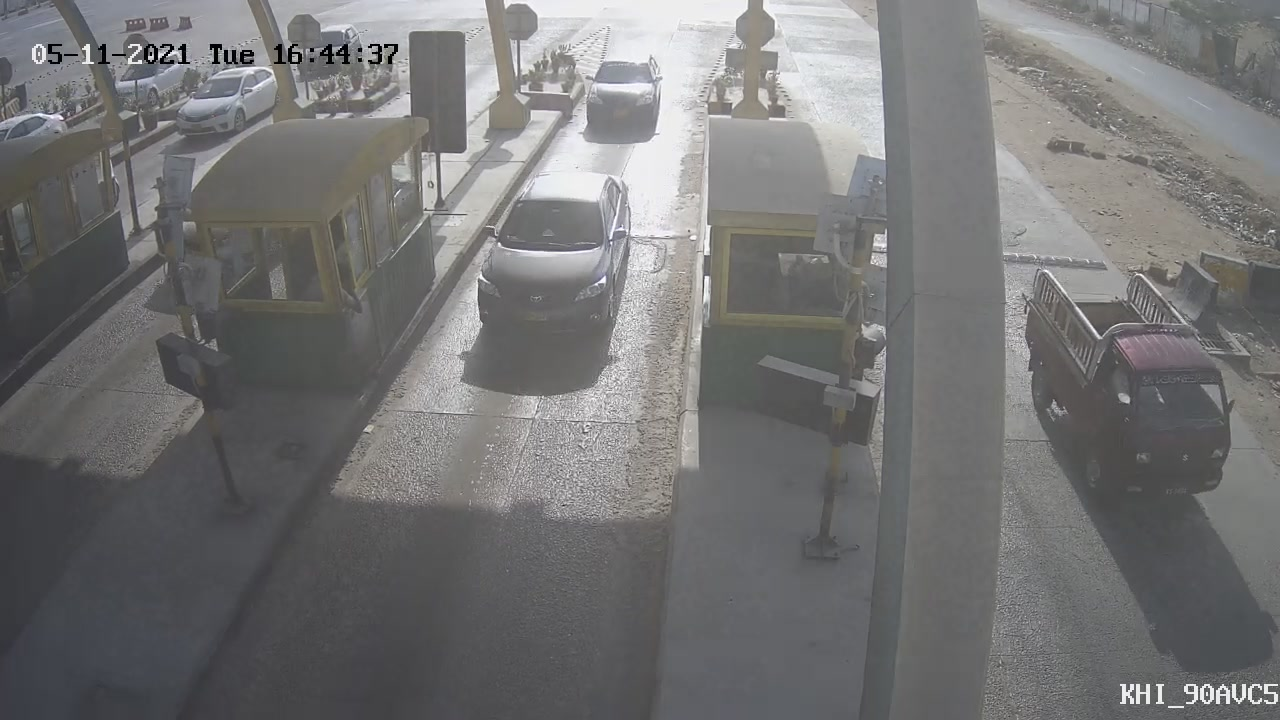F1: (450, 152, 650, 359), (576, 42, 678, 148)
